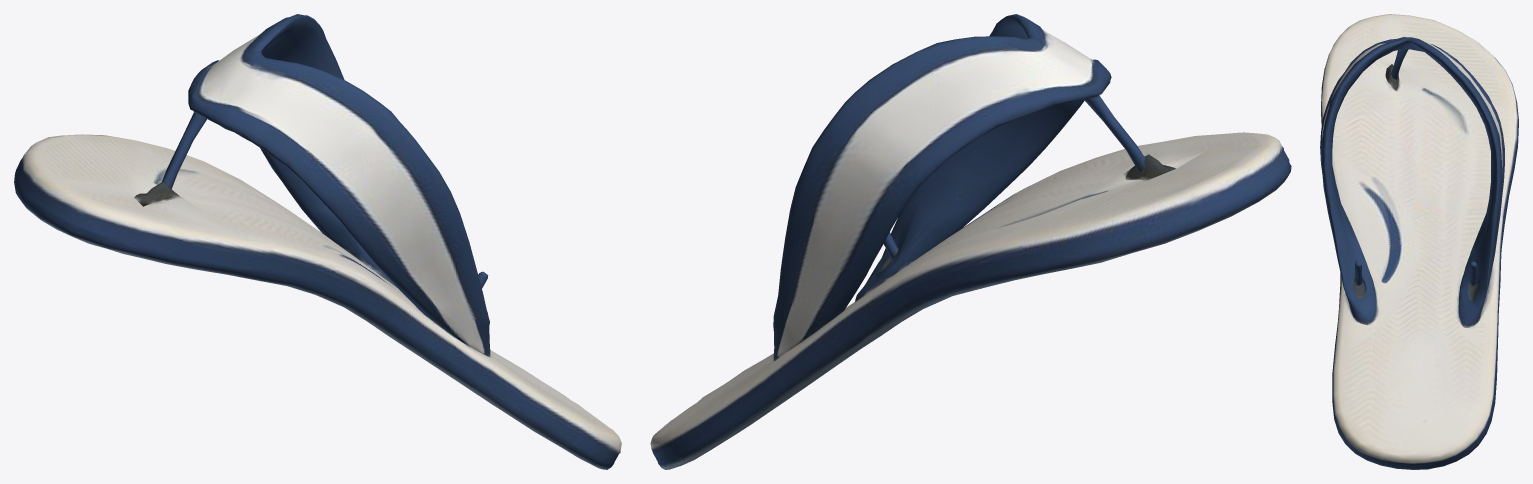
The model's file is slipper.glb.
3 views of the same model, side by side, from view 1: azimuth 30°, elevation 25°; view 2: azimuth 150°, elevation 25°; view 3: azimuth 270°, elevation 25° (orthographic). The views are drawn at different scales.
Parts seen in each view (by area): view 1: tripo_node_3b9ab9e4-f3d6-4322-9ccf-480e2c8dd9cb; view 2: tripo_node_3b9ab9e4-f3d6-4322-9ccf-480e2c8dd9cb; view 3: tripo_node_3b9ab9e4-f3d6-4322-9ccf-480e2c8dd9cb.
Part boxes in pixels (<box>): tripo_node_3b9ab9e4-f3d6-4322-9ccf-480e2c8dd9cb: <box>14,14,621,469</box>; tripo_node_3b9ab9e4-f3d6-4322-9ccf-480e2c8dd9cb: <box>650,14,1291,469</box>; tripo_node_3b9ab9e4-f3d6-4322-9ccf-480e2c8dd9cb: <box>1320,14,1518,469</box>.
Size of the model in its own units: 0.998 by 0.8027 by 0.4434.
Materials: 1 (1 with a texture image).
